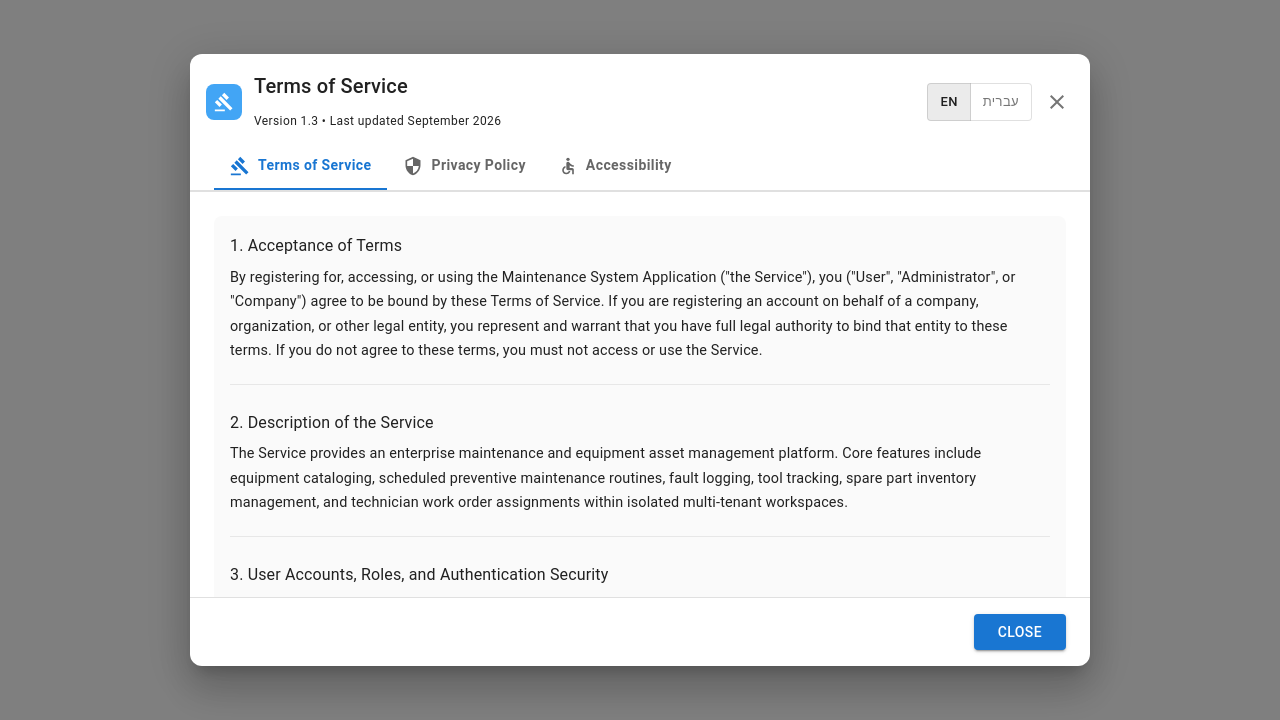
LegalModal and Legal Documents › switches to Privacy Policy tab when clicked
Step 1. Click the tab "Privacy Policy" → [465, 166], box [388,142,542,190]
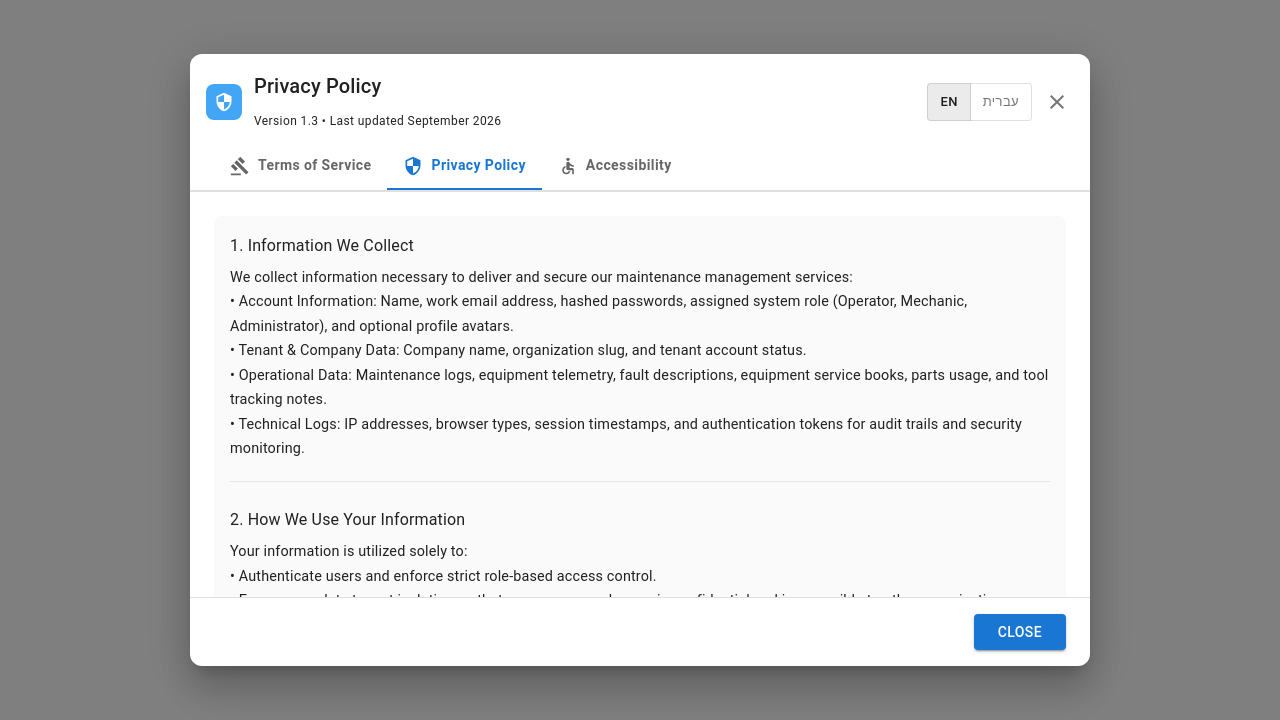
Expected: the heading "Privacy Policy" is shown, [254,74,381,98]
Expected: the heading "1. Information We Collect" is shown, [230,236,414,255]
